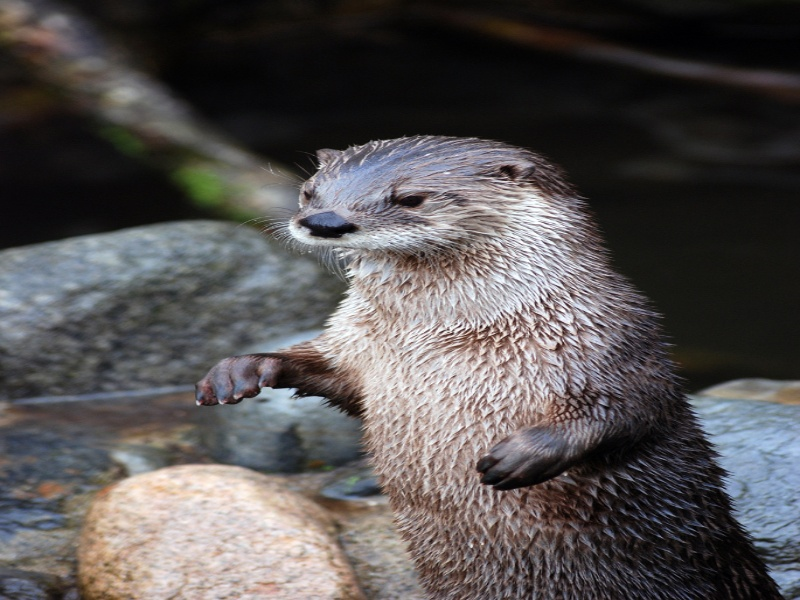minkish: (193, 133, 771, 594)
